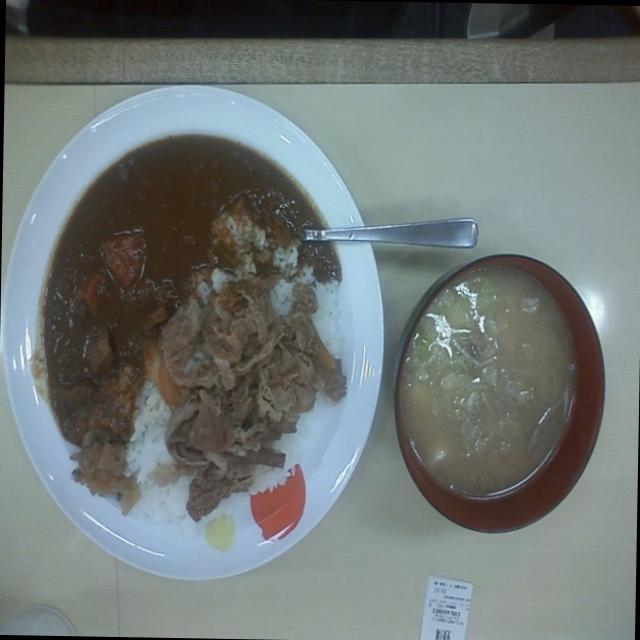Beef Curry: (22, 120, 366, 529)
